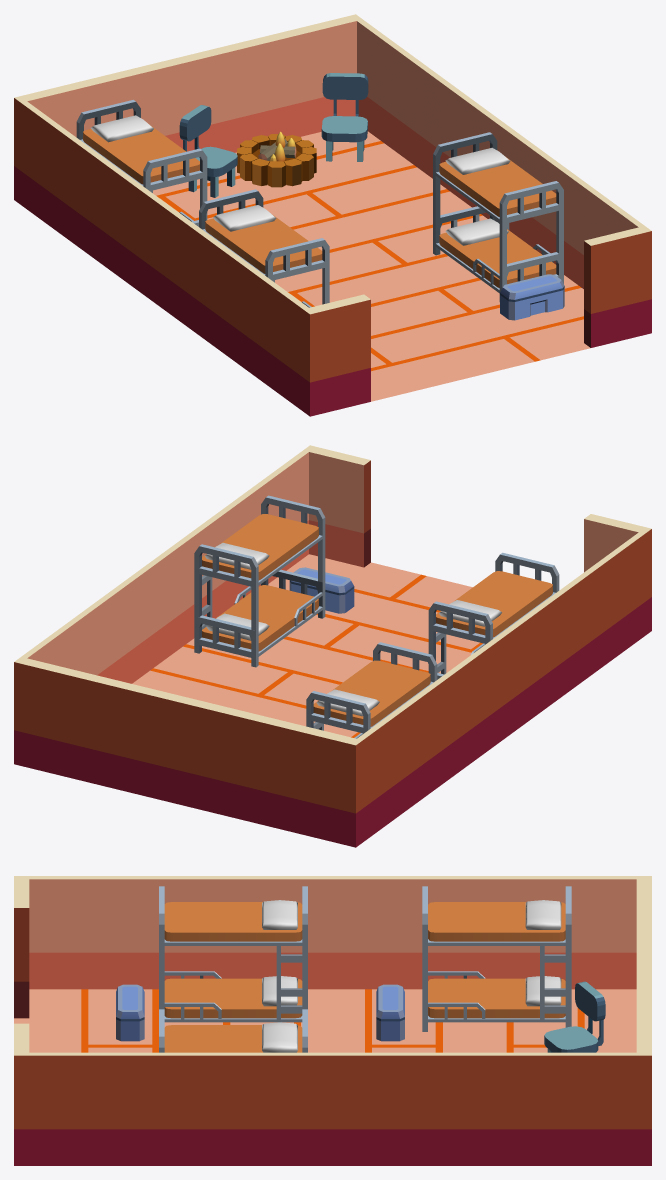
The model's file is Barrack_Lv2_a_winter.fbx.
3 views of the same model, one above another, from view 1: azimuth 30°, elevation 25°; view 2: azimuth 150°, elevation 25°; view 3: azimuth 270°, elevation 25° (orthographic). The views are drawn at different scales.
Parts seen in each view (by area): view 1: unit126, wall_half13, wall43, wall_half12, Bed3, wall45, wall44, Bed2, Bed1, Bonfire_2_1828_71_Bonfire_2_1828_72, office_chair_prisoner, big_chest4 (+1 smaller); view 2: wall43, wall_half13, unit126, wall_half12, Bed3, Bed2, Bed1, wall44, wall45, big_chest4; view 3: wall_half12, wall_half13, unit126, Bed1, Bed2, wall43, Bed3, office_chair_prisoner1, wall45, wall44, big_chest1, big_chest3.
Boxes of the visible parts, x1,y1,x2,y2 form: unit126: (153,131,590,401); wall_half13: (14,96,310,410); wall43: (14,14,362,204); wall_half12: (351,15,646,288); Bed3: (433,132,563,301); wall45: (303,294,370,416); wall44: (584,227,651,347); Bed2: (199,189,329,307); Bed1: (76,99,207,226); Bonfire_2_1828_71_Bonfire_2_1828_72: (237,131,316,187); office_chair_prisoner: (321,73,368,161); big_chest4: (500,274,564,320); wall43: (14,657,362,846); wall_half13: (349,530,645,847); unit126: (132,554,482,737); wall_half12: (18,448,311,683); Bed3: (194,495,325,667); Bed2: (428,552,559,679); Bed1: (306,642,437,738); wall44: (306,445,370,567); wall45: (584,514,651,635); big_chest4: (289,567,354,613); wall_half12: (23,1052,651,1165); wall_half13: (23,876,651,989); unit126: (14,989,636,1052); Bed1: (422,886,571,1031); Bed2: (159,886,307,1022); wall43: (636,876,651,1165); Bed3: (159,1009,307,1052); office_chair_prisoner1: (544,981,605,1052); wall45: (14,876,29,1018); wall44: (14,1023,29,1165); big_chest1: (116,984,144,1041); big_chest3: (376,984,404,1041).
Bounding box in the file's own units: 700 × 211 × 1050.
